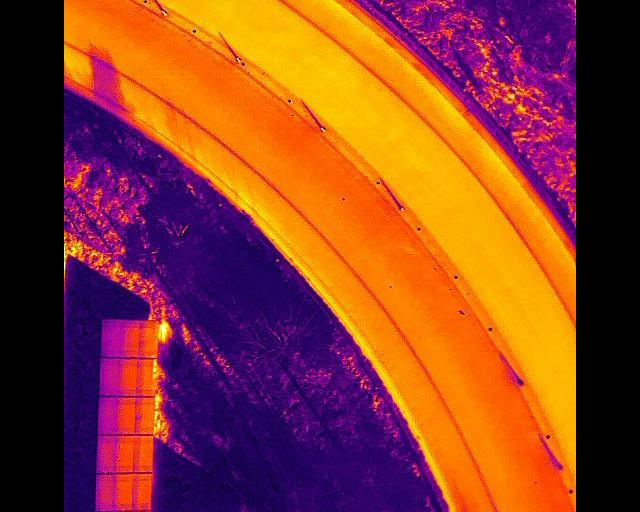Cell-Multi: (138, 358, 156, 395)
No-Anomaly: (101, 319, 124, 358), (100, 394, 120, 434), (120, 358, 142, 394), (115, 473, 136, 510), (98, 435, 119, 472), (101, 356, 121, 394), (120, 396, 140, 434), (96, 473, 115, 511), (124, 319, 142, 357), (139, 321, 158, 357), (119, 433, 136, 473), (136, 434, 153, 472), (136, 472, 152, 509), (140, 397, 156, 434)
